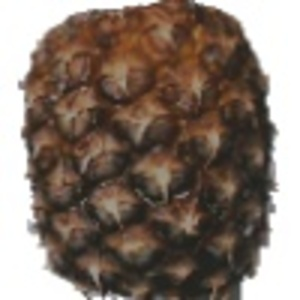abacaxi: (17, 2, 279, 294)
